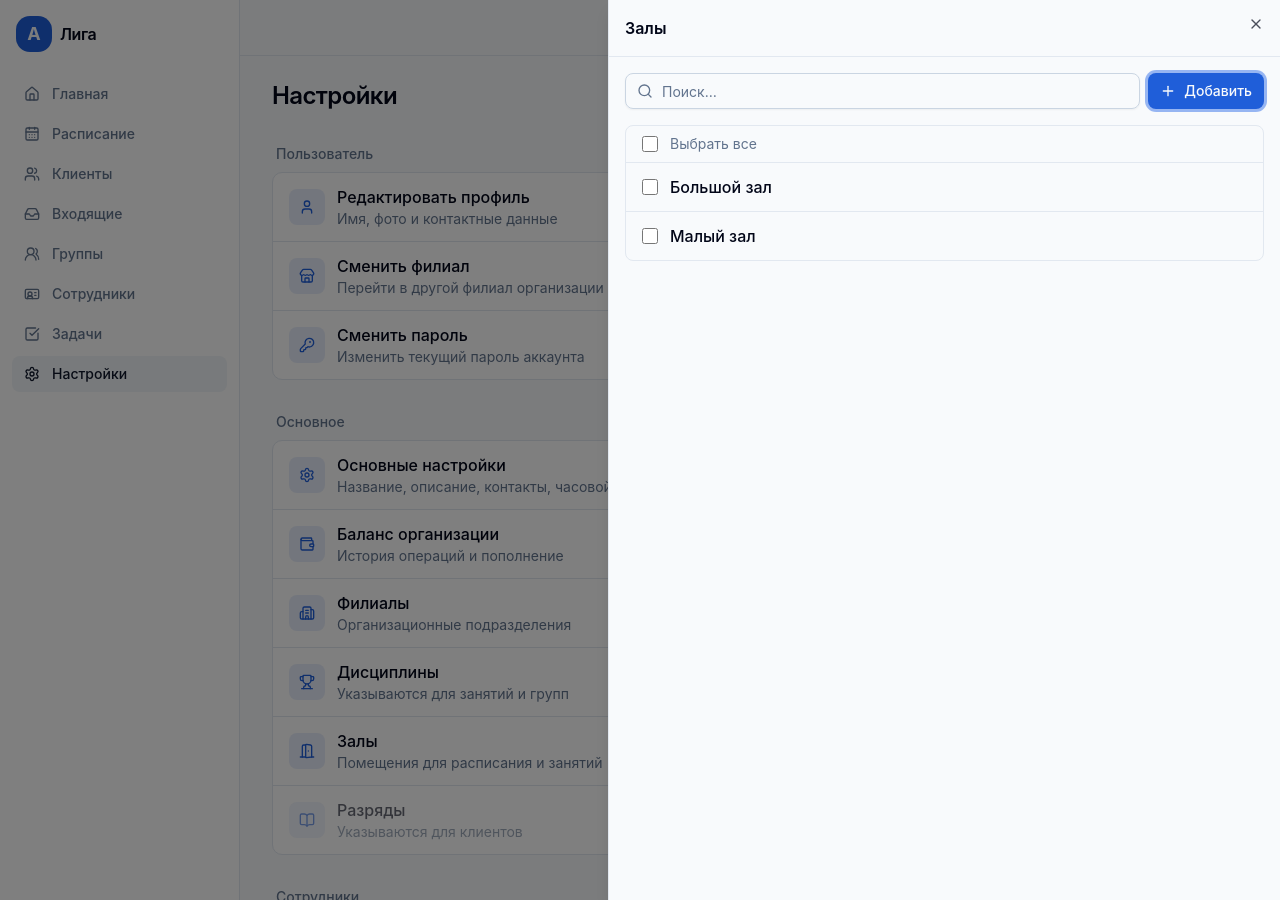
Test case: справочник › удаляет выбранные записи после подтверждения
Click the checkbox named "Выбрать «Большой зал»" at (650, 187), box [642, 179, 658, 195]
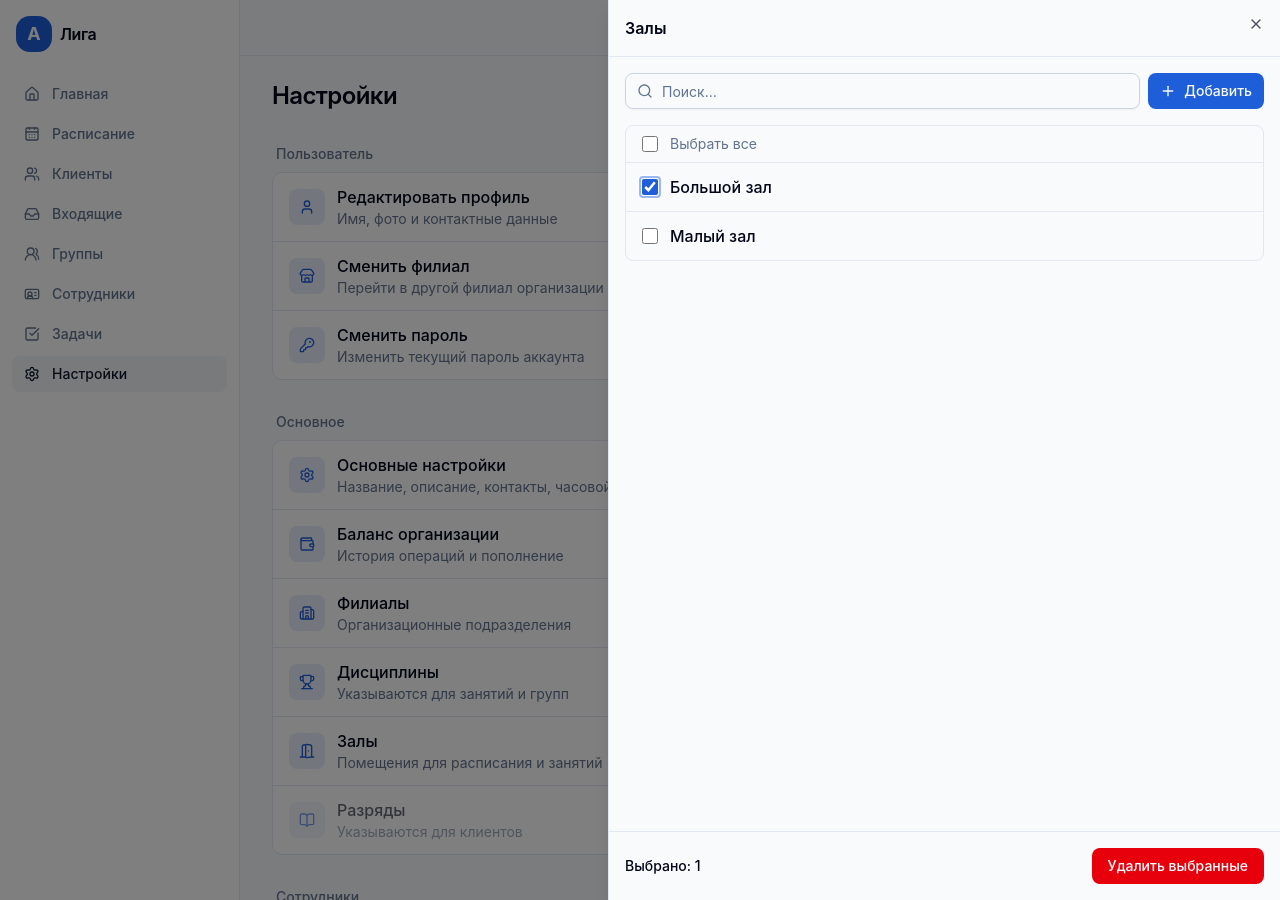
Result: the text "Выбрано: 1" is shown at [625, 856, 701, 876]
Click the button "Удалить выбранные" at (1178, 866), box [1092, 848, 1264, 884]
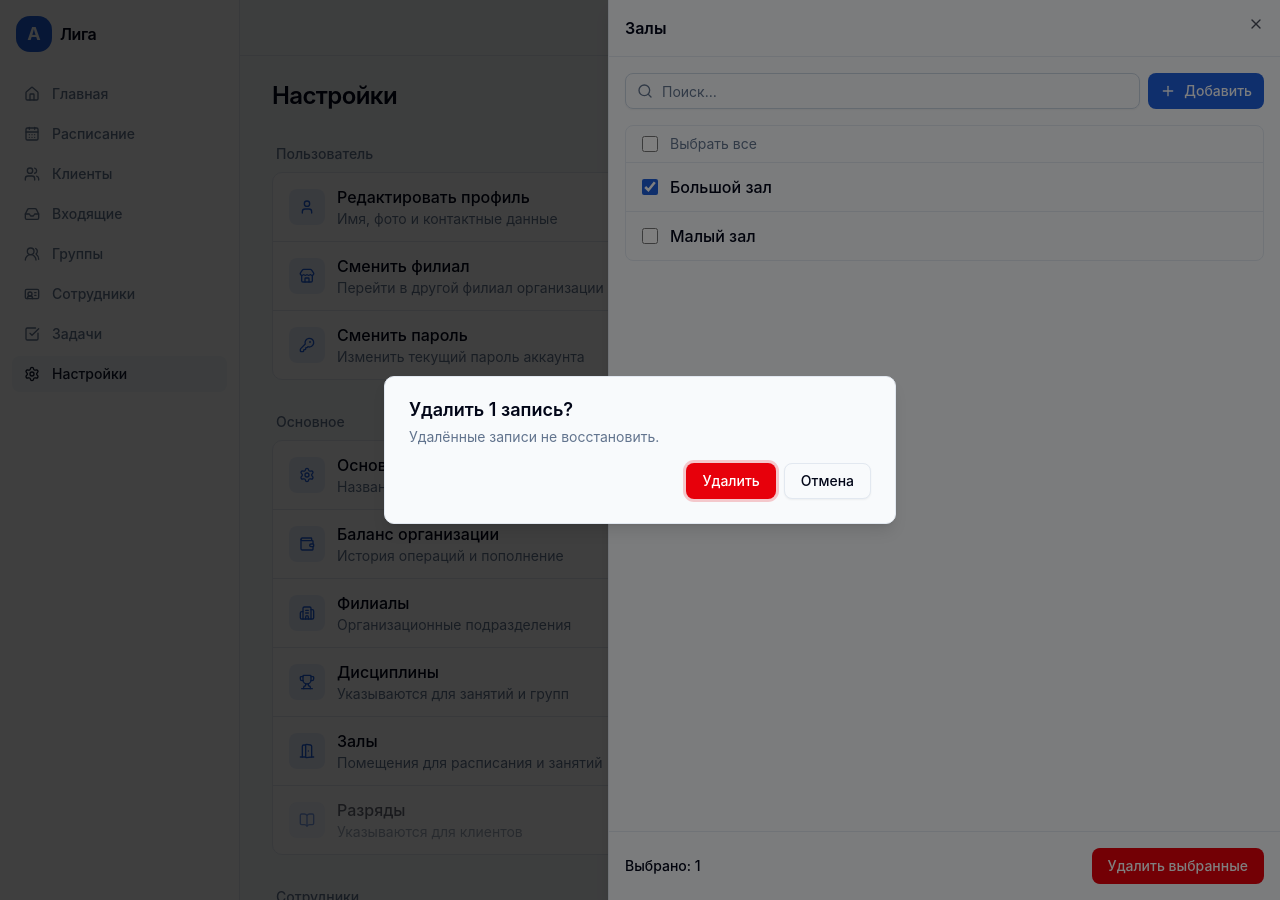
Click the button "Удалить" at (731, 481), box [686, 463, 776, 499]
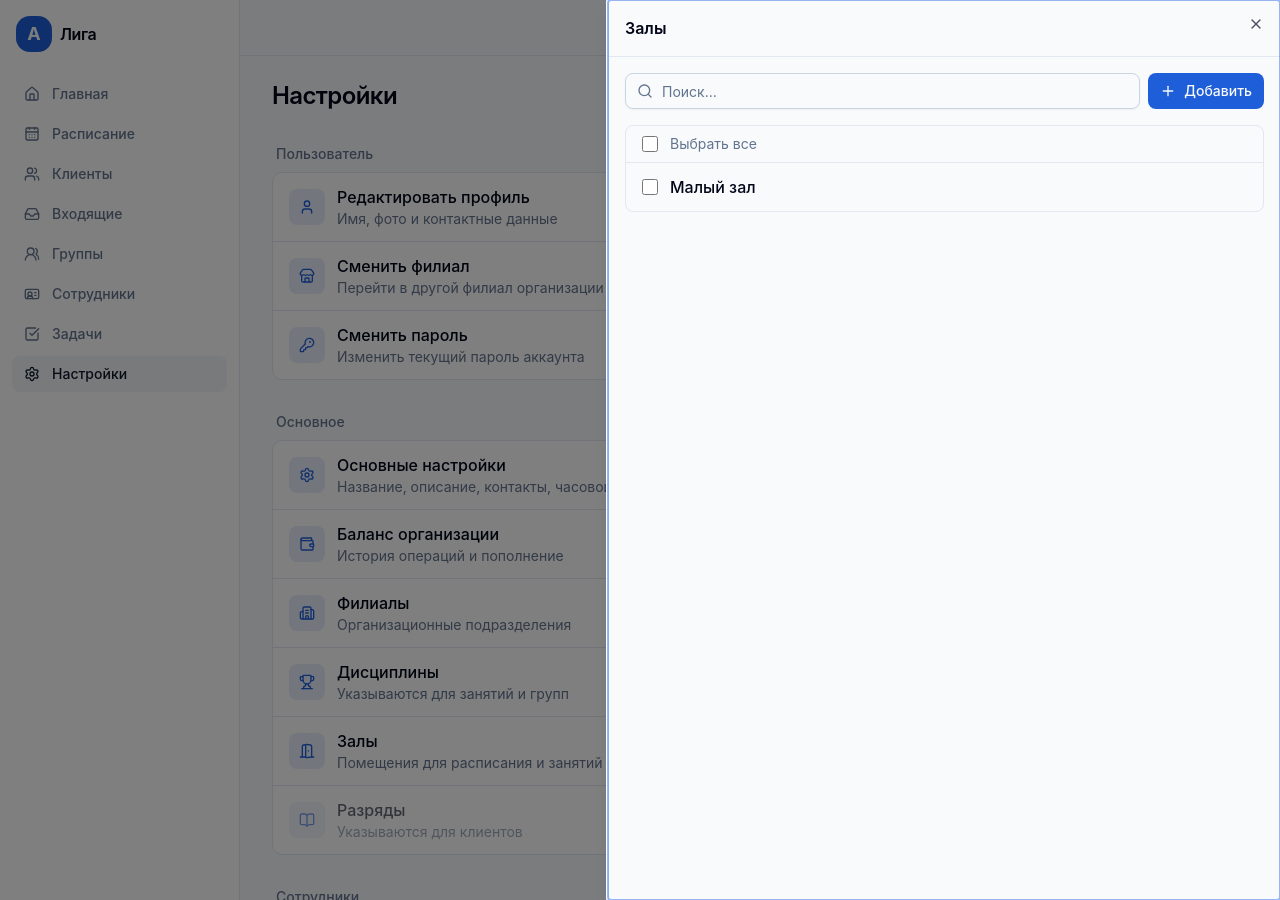
Expected: the text "Малый зал" is shown, [670, 177, 756, 197]
Result: the button "Большой зал" is gone
Result: the text "Выбрано" is gone
